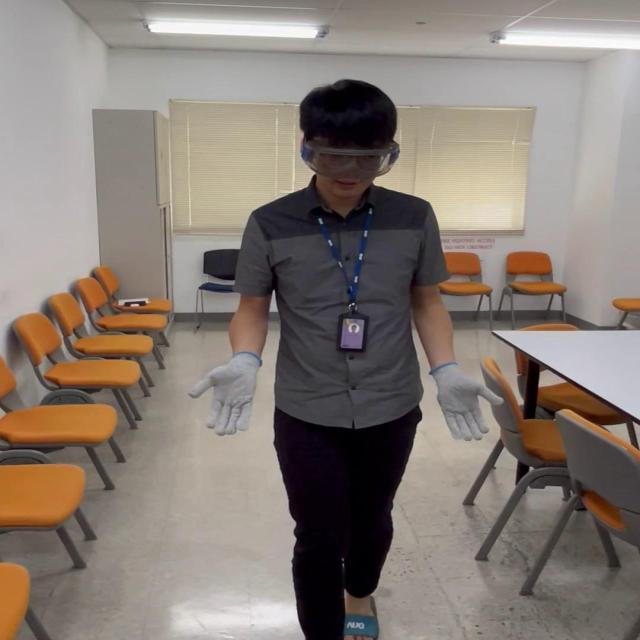gloved_hand: (194, 356, 271, 435), (424, 364, 498, 434)
